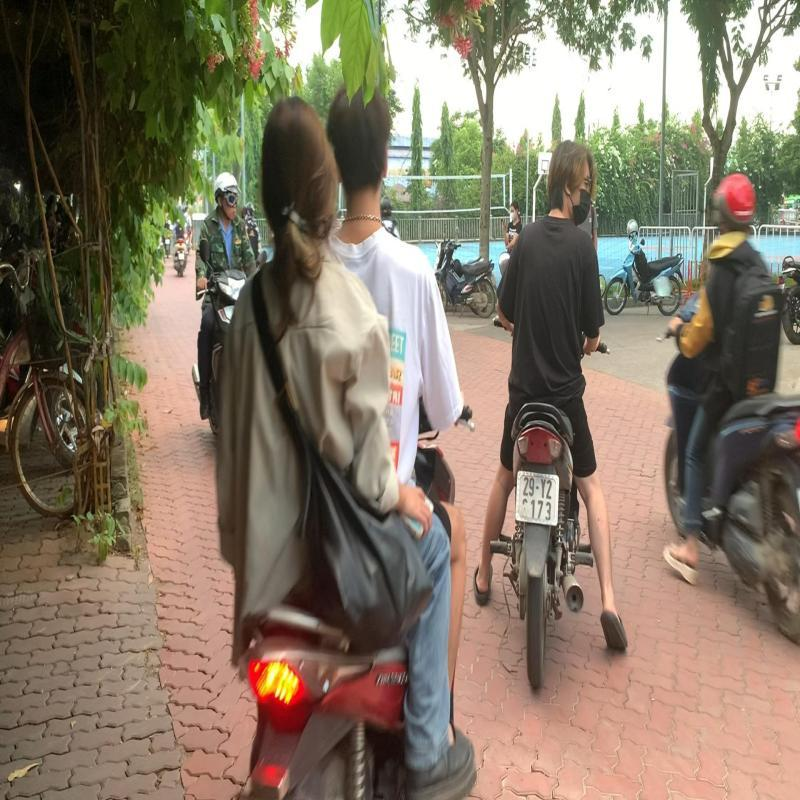nohelmet: (258, 94, 340, 234), (326, 68, 399, 198), (546, 134, 598, 228)
